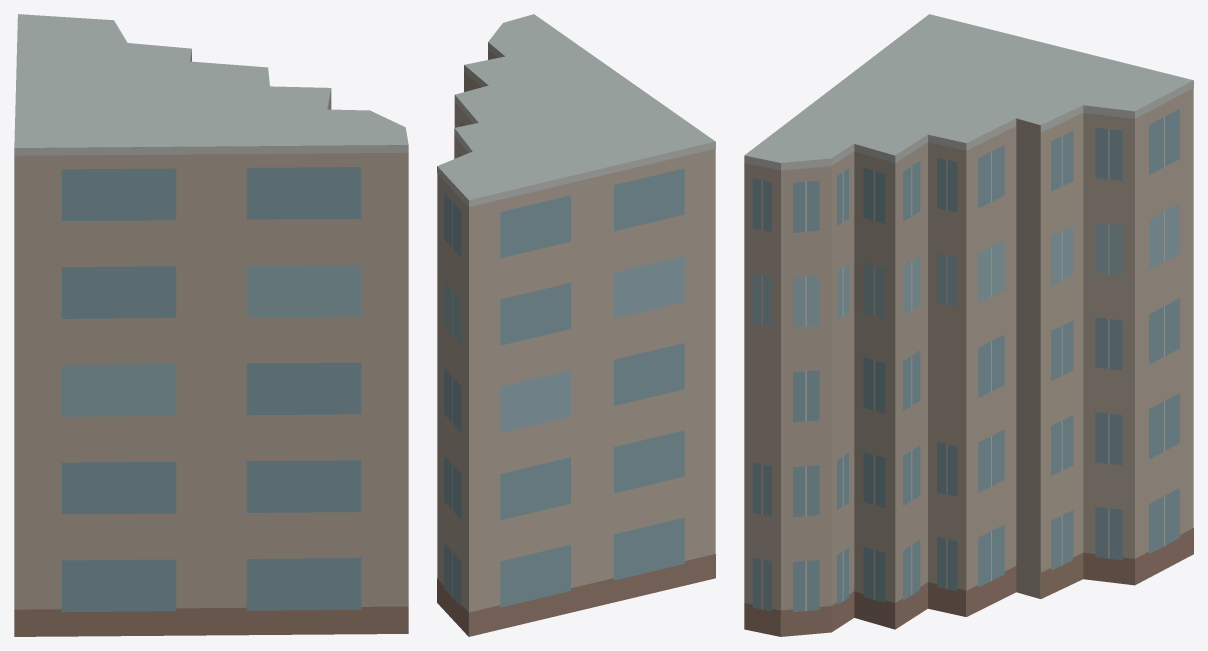
The model's file is survey-upis-32599860.glb.
The picture shows the model from 3 angles, left to right: view 1: azimuth 30°, elevation 25°; view 2: azimuth 150°, elevation 25°; view 3: azimuth 270°, elevation 25°; orthographic projection. The views are drawn at different scales.
Parts seen in each view (by area): view 1: survey-upis-32599860.tmp; view 2: survey-upis-32599860.tmp; view 3: survey-upis-32599860.tmp.
Boxes of the visible parts, x1,y1,x2,y2 form: survey-upis-32599860.tmp: (14, 14, 408, 636); survey-upis-32599860.tmp: (437, 14, 715, 636); survey-upis-32599860.tmp: (744, 14, 1193, 636).
Size of the model in its own units: 10.29 by 15.25 by 13.12.
